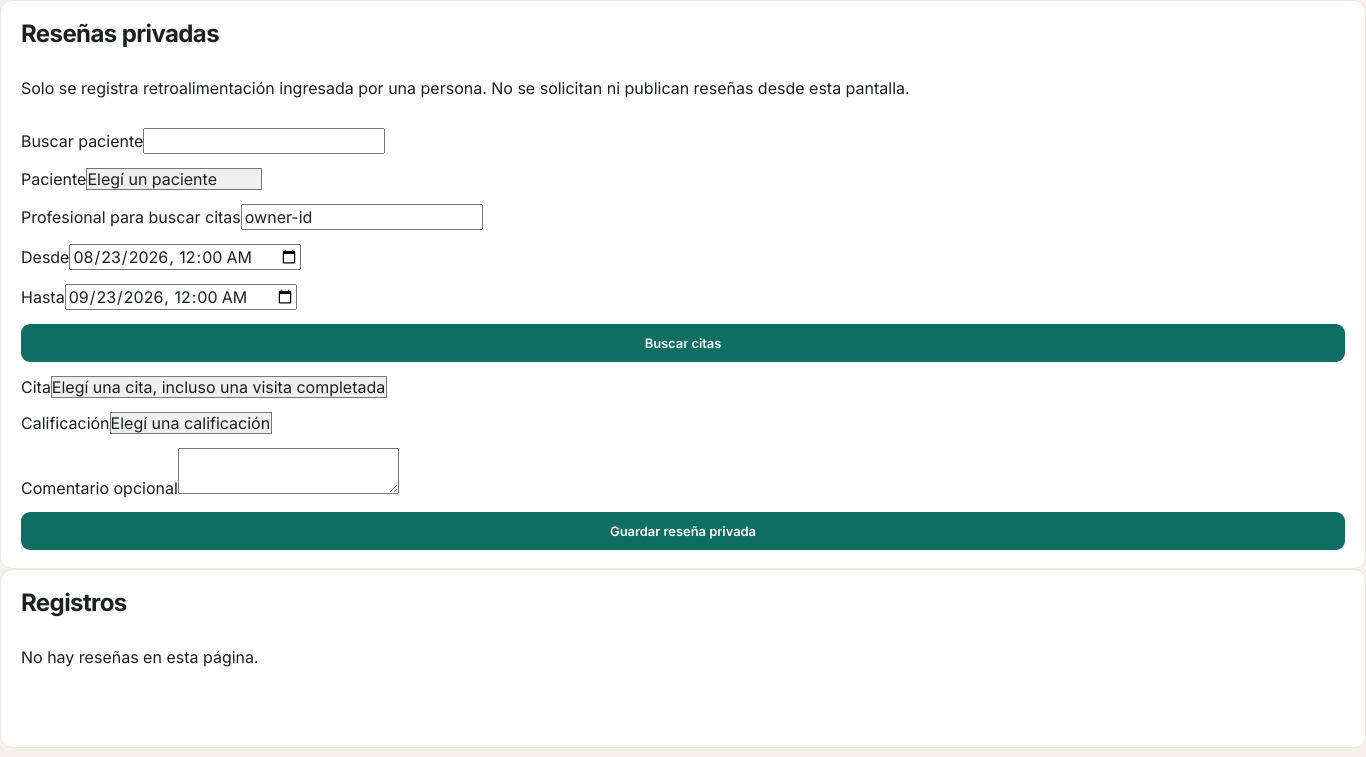
ReviewsPage › allows a selected past completed visit and does not resubmit an acknowledged review when reload fails
Select "Ana Uno · expediente 1" in the dropdown labelled "Paciente" at {"x": 174, "y": 179}, box [86,168,262,190]
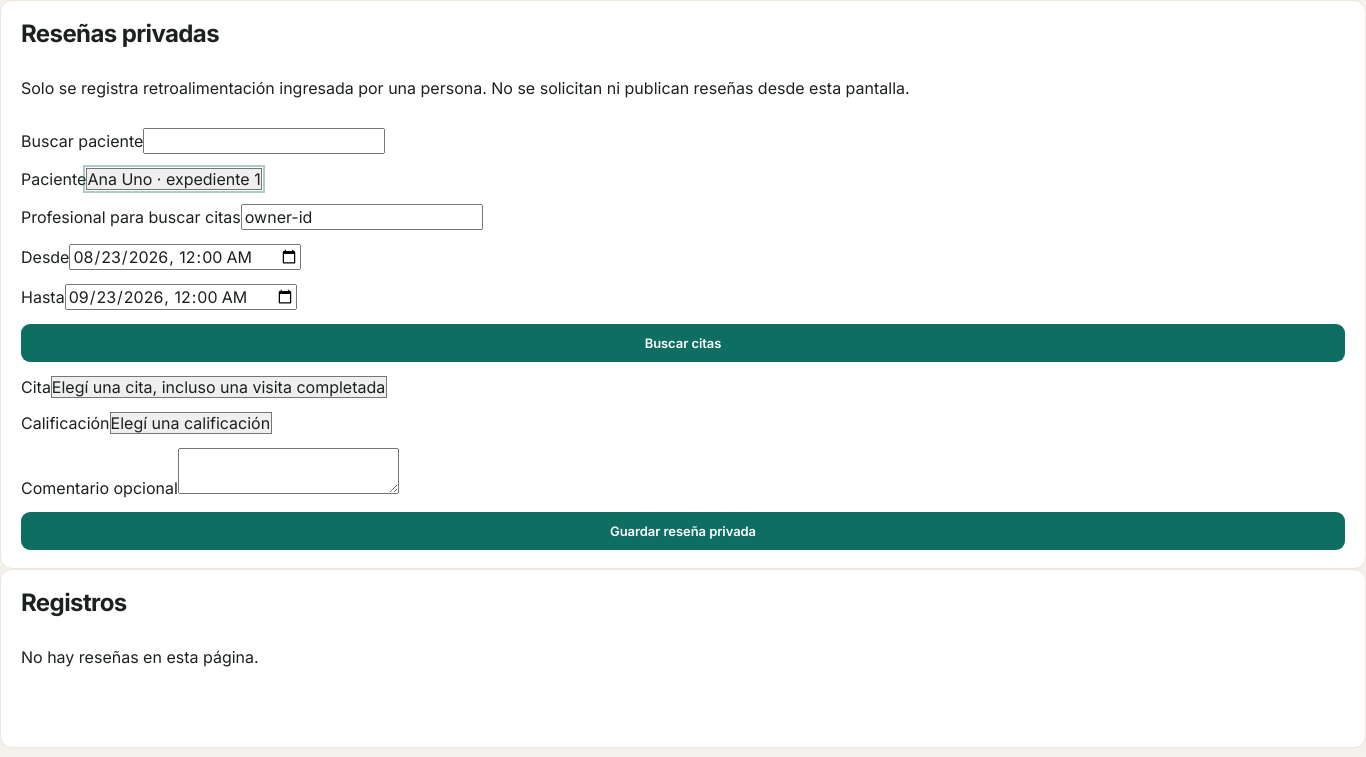
Click the button "Buscar citas" at {"x": 683, "y": 343}, box [21,324,1345,362]
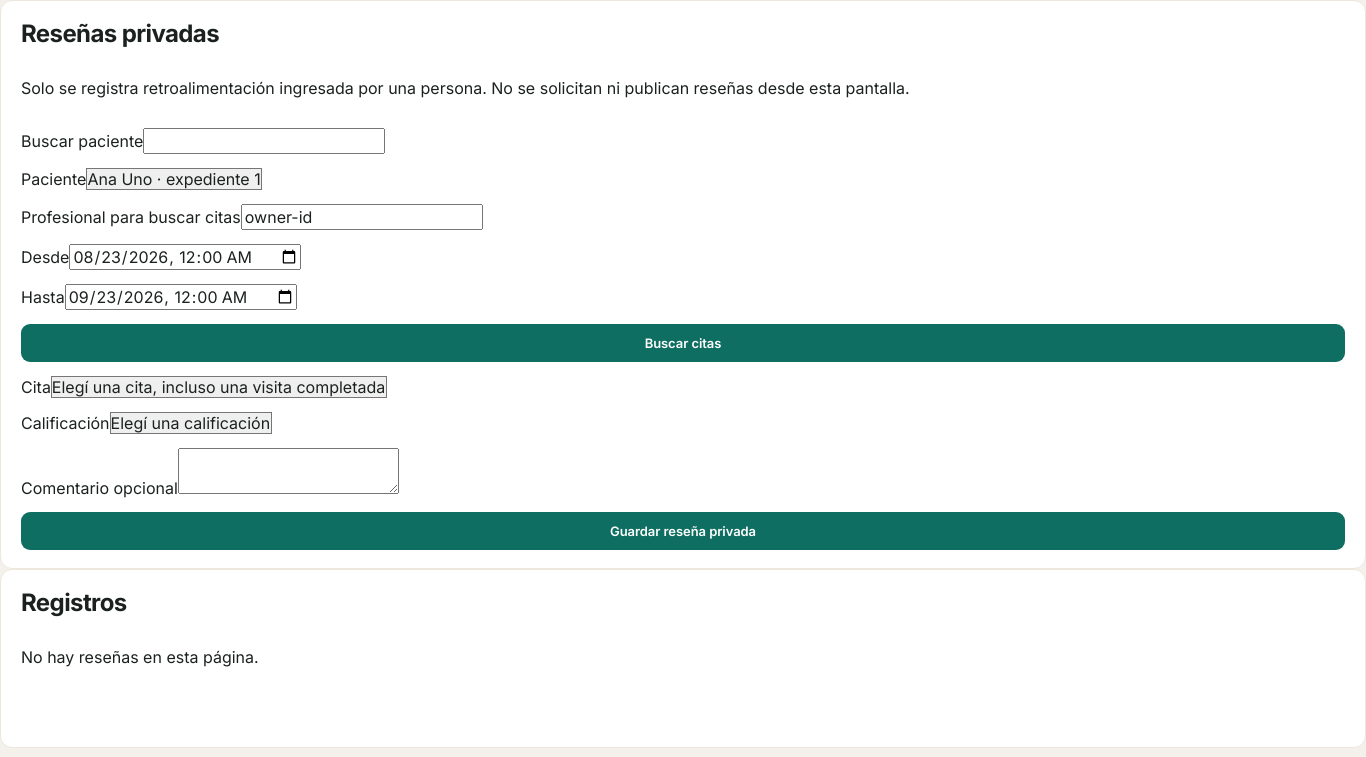
Select "2020-01-01T10:00:00Z · COMPLETED" in the dropdown labelled "Cita" at {"x": 219, "y": 387}, box [51,376,387,398]
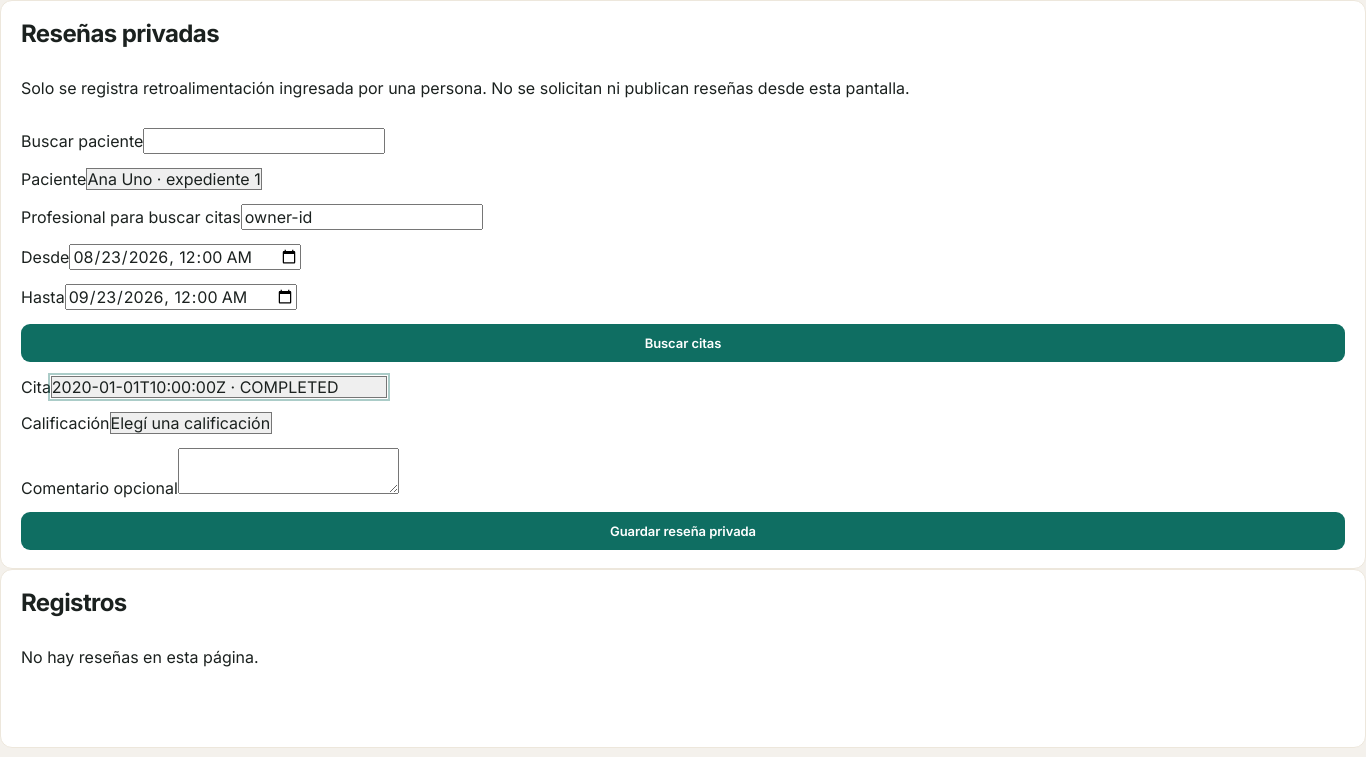
Select "4" in the dropdown labelled "Calificación" at {"x": 191, "y": 423}, box [110,412,272,434]
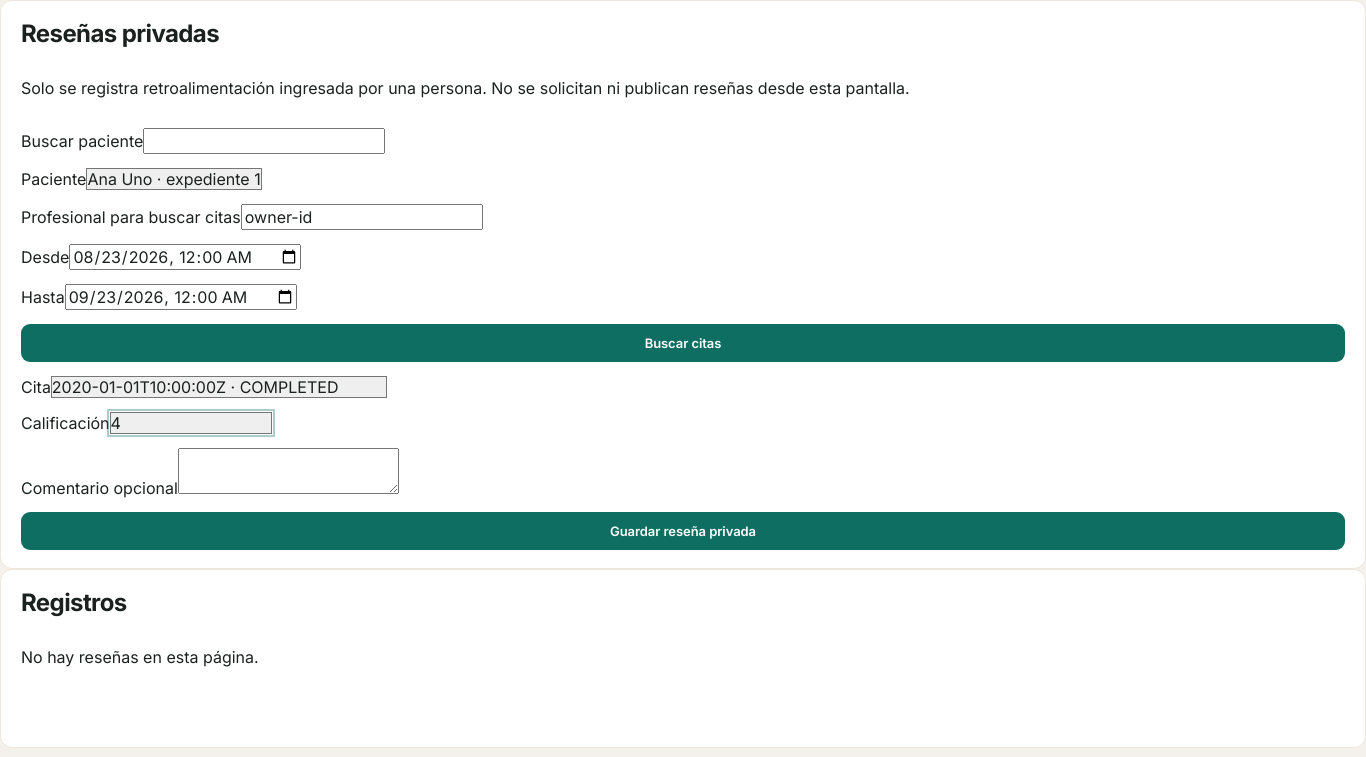
Click the button "Guardar reseña privada" at {"x": 683, "y": 531}, box [21,512,1345,550]
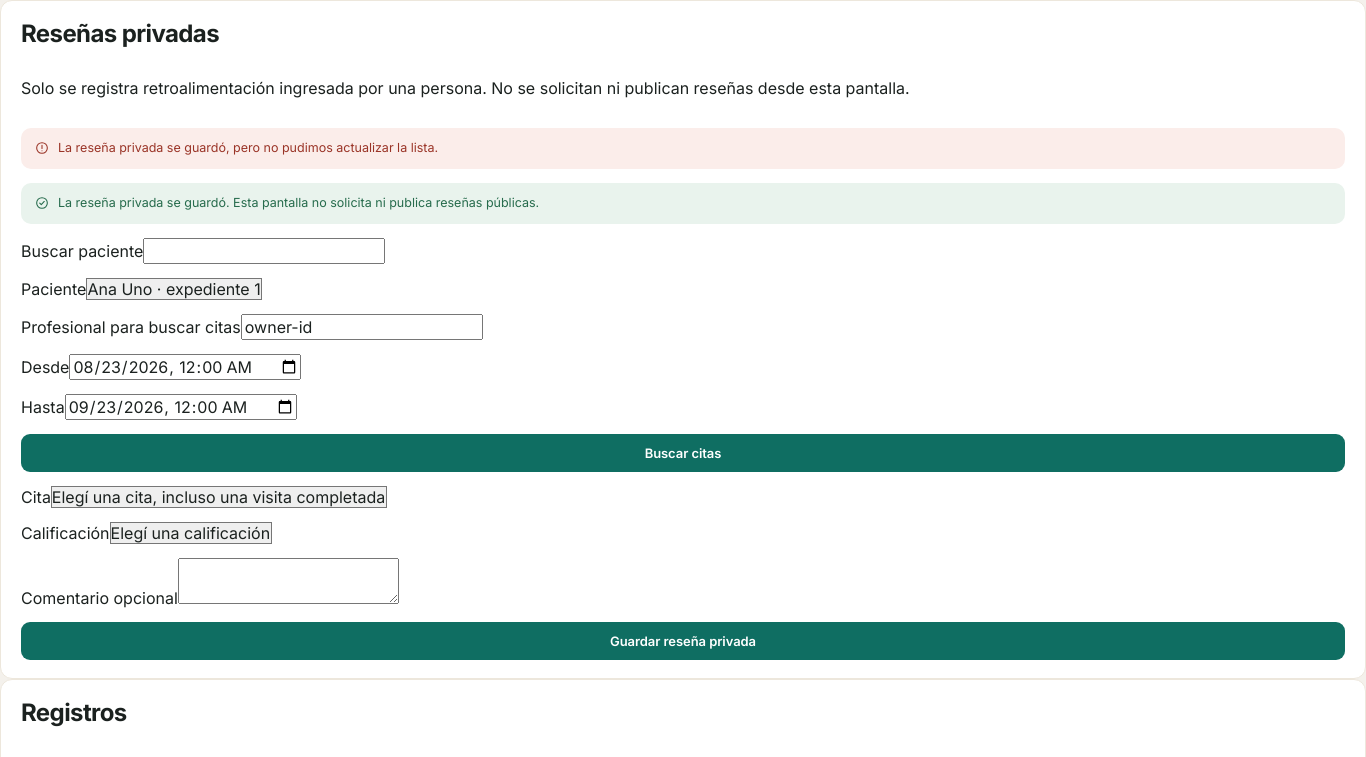
Expected: the text "La reseña privada se guardó. Esta pantalla no solicita ni publica reseñas públicas." is shown, [58,195,539,210]
Expected: the text "se guardó, pero no pudimos actualizar la lista" is shown, [58,140,438,155]
